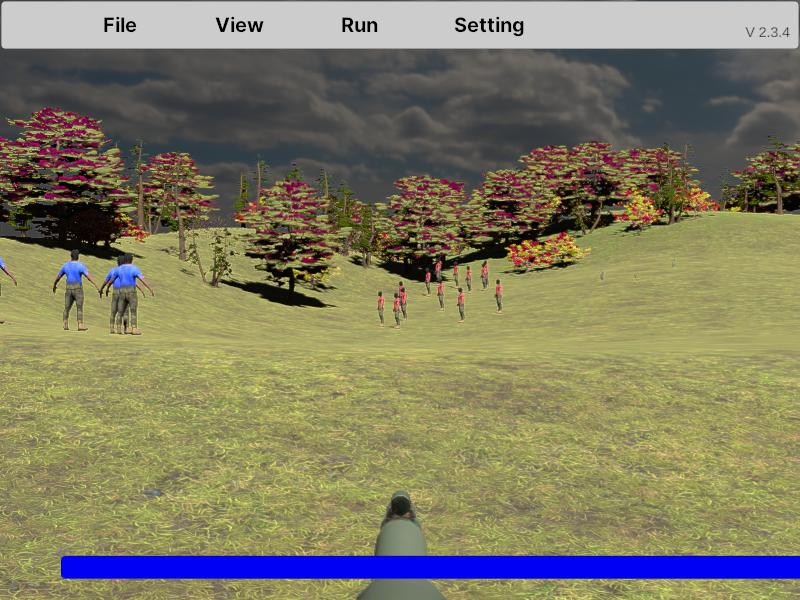Human: (52, 248, 100, 332), (106, 253, 153, 335), (0, 238, 17, 326)
